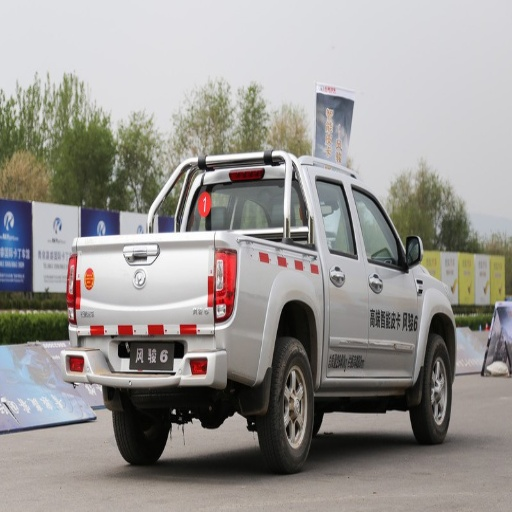back_bumper: (72, 342, 223, 389)
back_right_door: (309, 171, 369, 378)
trunk: (78, 231, 321, 385)
